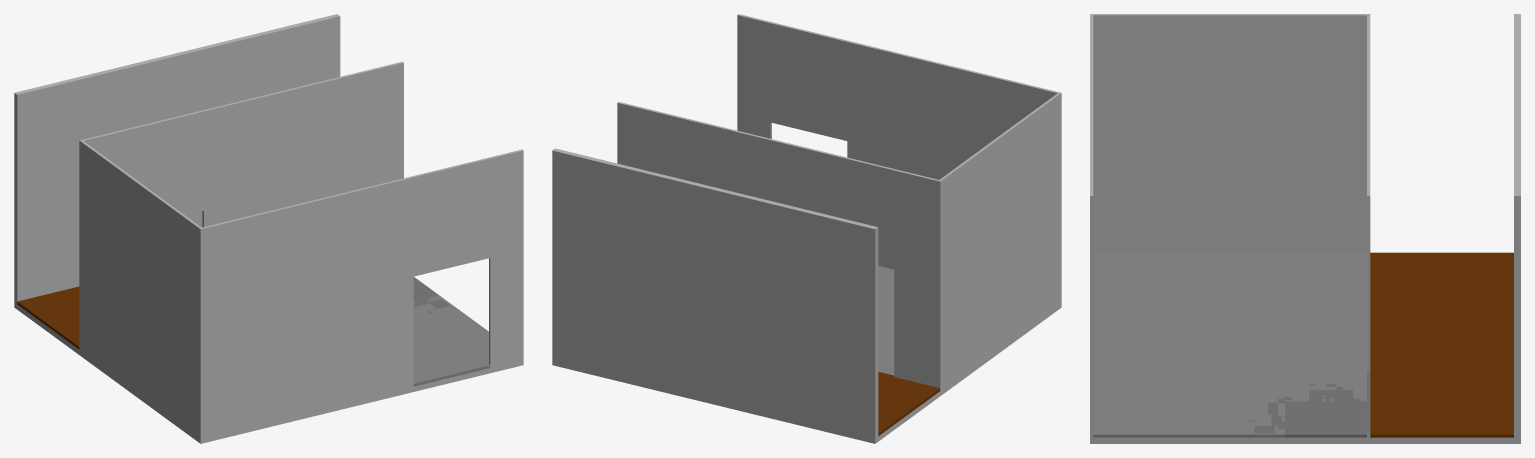
Rendered from 4x2 third (1)-0.obj.
3 views of the same model, side by side, from view 1: azimuth 30°, elevation 25°; view 2: azimuth 150°, elevation 25°; view 3: azimuth 270°, elevation 25° (orthographic). The views are drawn at different scales.
Parts seen in each view (by area): view 1: 4x2 third (1)-0; view 2: 4x2 third (1)-0; view 3: 4x2 third (1)-0.
Part boxes in pixels (<box>): 4x2 third (1)-0: <box>14,14,523,443</box>; 4x2 third (1)-0: <box>552,14,1061,443</box>; 4x2 third (1)-0: <box>1090,14,1520,443</box>.
Bounding box in the file's own units: 126 × 80 × 126.
1 material, 1 textured.
